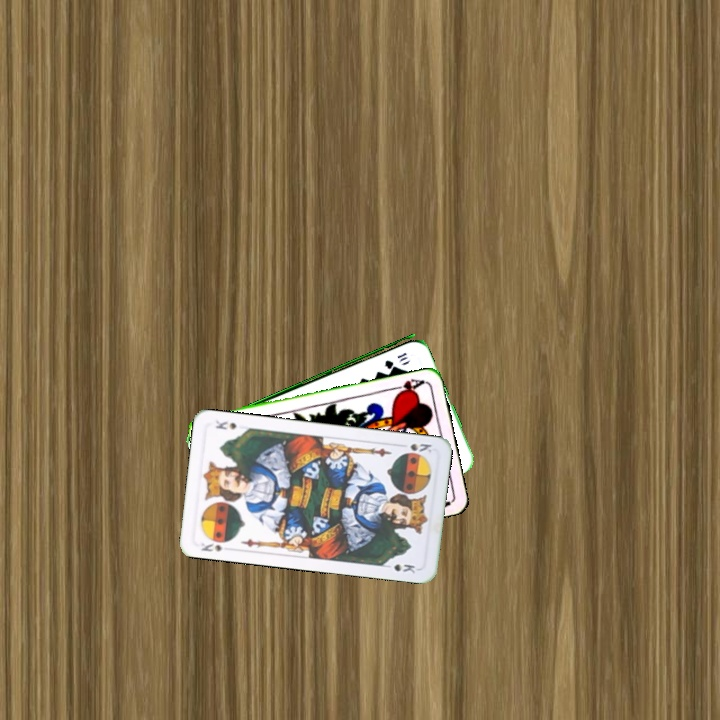G10: (381, 348, 410, 370)
HA: (387, 375, 427, 398)
SK: (406, 439, 435, 455), (197, 539, 225, 554)
